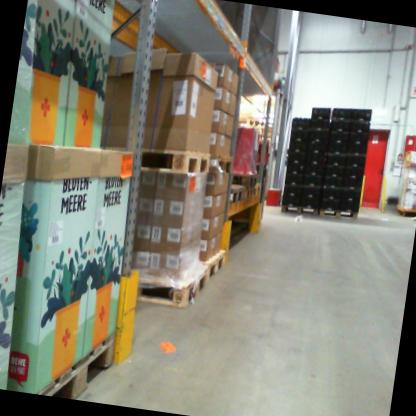pallet: (30, 314, 124, 403), (123, 250, 211, 317), (127, 138, 212, 177), (190, 241, 230, 285), (207, 151, 238, 183), (318, 203, 359, 224), (215, 181, 245, 209), (280, 199, 320, 218), (223, 169, 257, 190), (239, 114, 264, 136), (240, 184, 255, 203), (251, 181, 263, 198)
